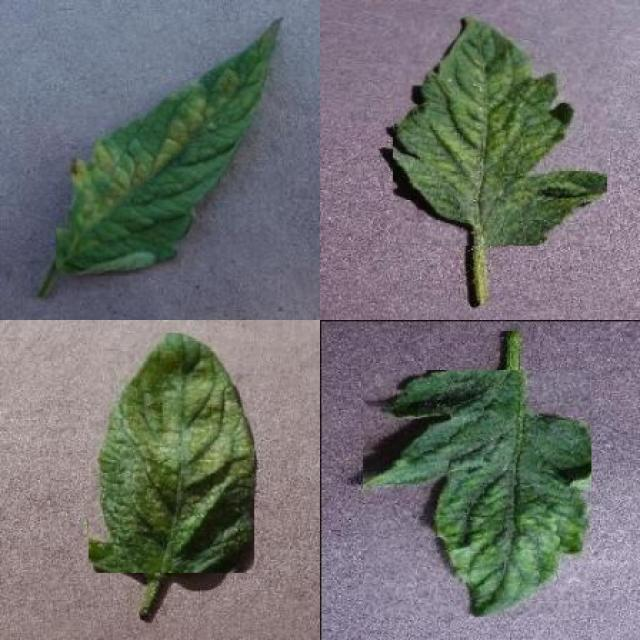Leaf Mold: (56, 17, 285, 276)
Mosaic Virus: (362, 370, 592, 617), (393, 15, 608, 245)
Spider Mites: (88, 334, 255, 574)
